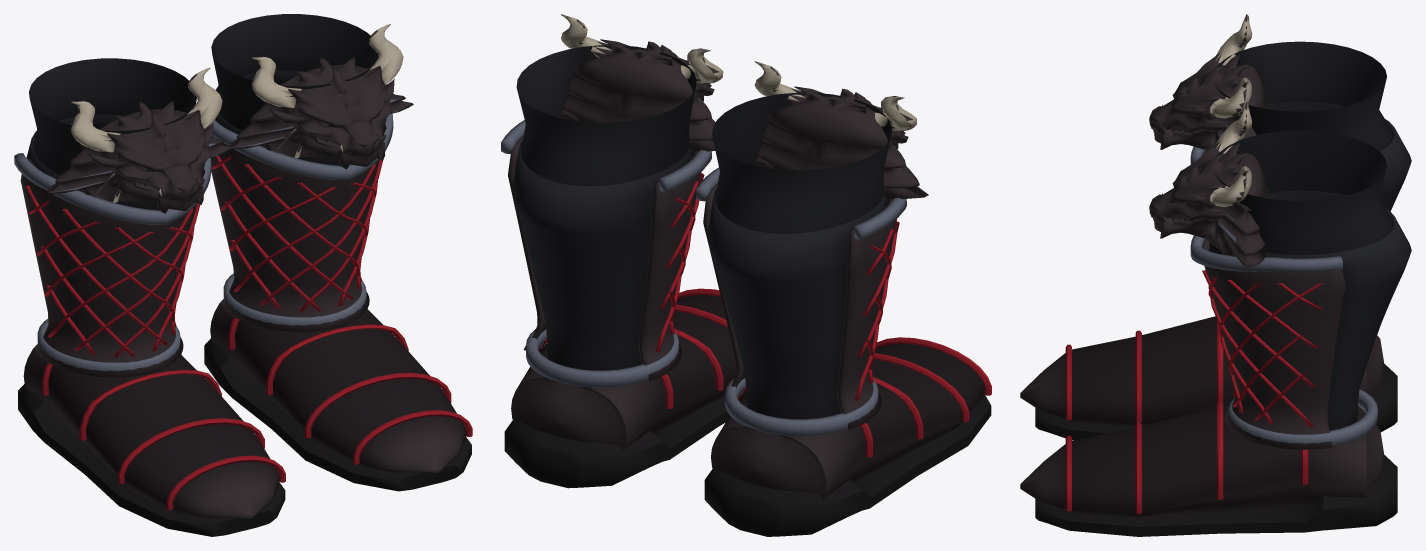
File: f_dragonknight_dark_d.glb
3 renders of one model, left to right at view 1: azimuth 30°, elevation 25°; view 2: azimuth 150°, elevation 25°; view 3: azimuth 270°, elevation 25°, orthographic. The views are drawn at different scales.
Visible parts, largest first — view 1: LegR_Boot, LegL_Boot, LegR_BootFoot, LegL_BootFoot; view 2: LegR_Boot, LegL_Boot, LegR_BootFoot, LegL_BootFoot; view 3: LegL_Boot, LegL_BootFoot, LegR_Boot, LegR_BootFoot.
Part boxes in pixels (x1,y1,x2,y2): LegR_Boot: [14, 58, 231, 377]; LegL_Boot: [206, 14, 413, 331]; LegR_BootFoot: [18, 344, 285, 536]; LegL_BootFoot: [204, 299, 472, 491]; LegR_Boot: [695, 61, 928, 436]; LegL_Boot: [501, 14, 723, 387]; LegR_BootFoot: [704, 337, 991, 536]; LegL_BootFoot: [504, 288, 745, 488]; LegL_Boot: [1149, 102, 1411, 449]; LegL_BootFoot: [1020, 402, 1397, 536]; LegR_Boot: [1149, 14, 1411, 211]; LegR_BootFoot: [1020, 316, 1397, 439].
Size of the model in its own units: 0.4324 by 0.4178 by 0.4004.
